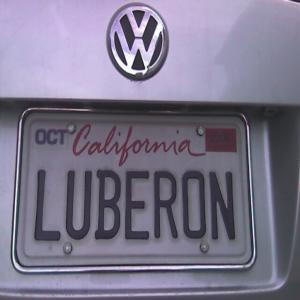Vehicle-registration-plate: (12, 107, 258, 277)
